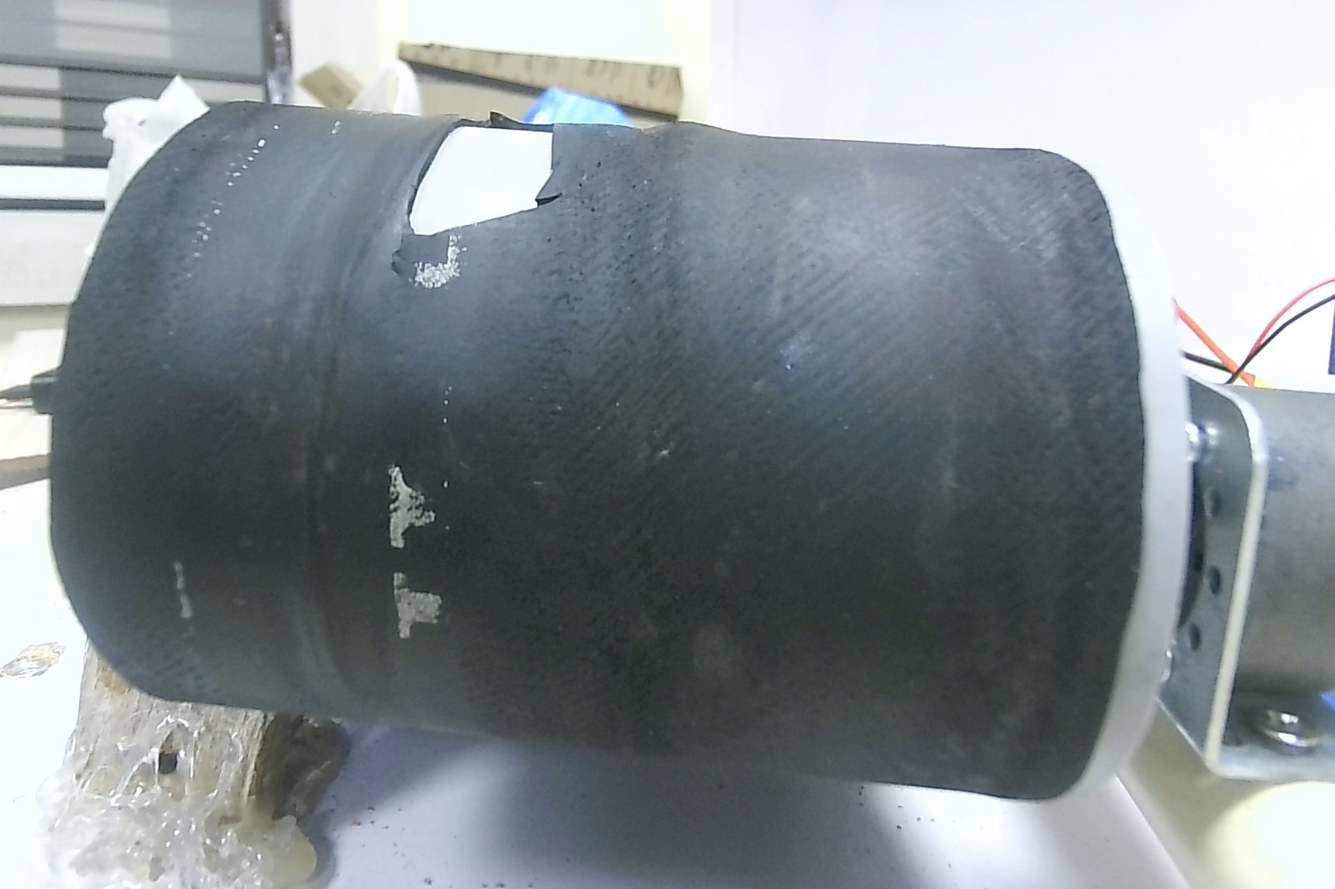hole: (406, 116, 558, 251)
